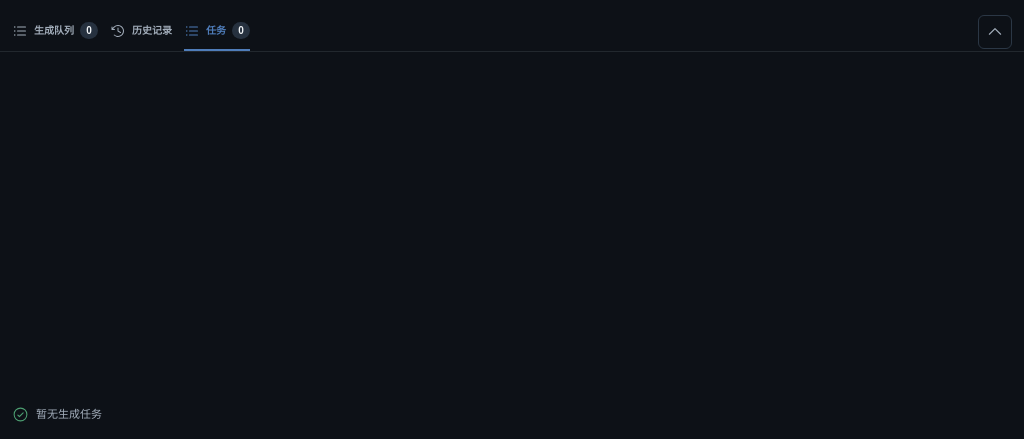
Scenario: GenerationQueue Jobs tab › shows the interrupted recovery marker with a downloadable hint
Click the button "任务 0".
click(217, 32)  # box x1=184 y1=12 x2=250 y2=51
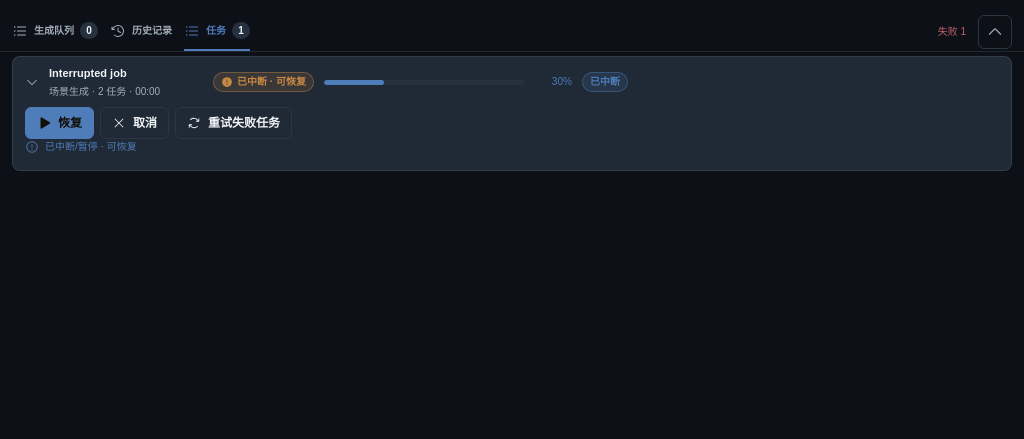
Check: the text "已中断 · 可恢复" is shown, box x1=213 y1=72 x2=314 y2=92
Check: the text "已中断/暂停 · 可恢复" is shown, box x1=25 y1=139 x2=137 y2=155
Check: the button "恢复" is shown, box x1=25 y1=107 x2=94 y2=139
